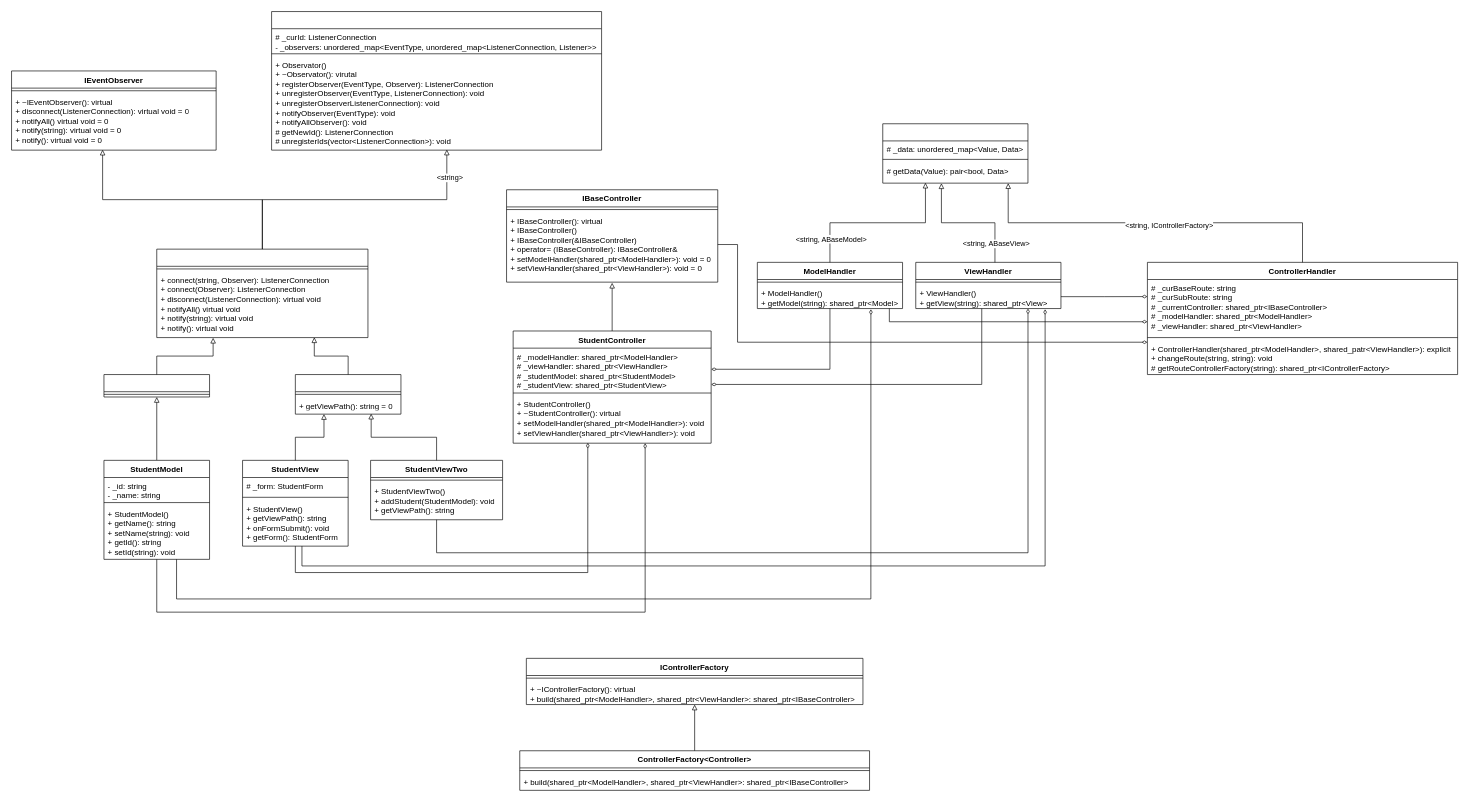
The diagram is 1469 pixels wide and 804 high, and some of its shapes have lost their labels. The shapes that lost their labels are listed below. From the top down, each one's box as (x1, y1, x2, y2) in pixels, then its label:
(271, 11, 602, 150): Observator<EventType>
(882, 123, 1028, 183): DataHandler<Value, Data>
(156, 248, 368, 338): EventObserver
(103, 374, 210, 397): ABaseModel
(295, 374, 401, 414): ABaseView
